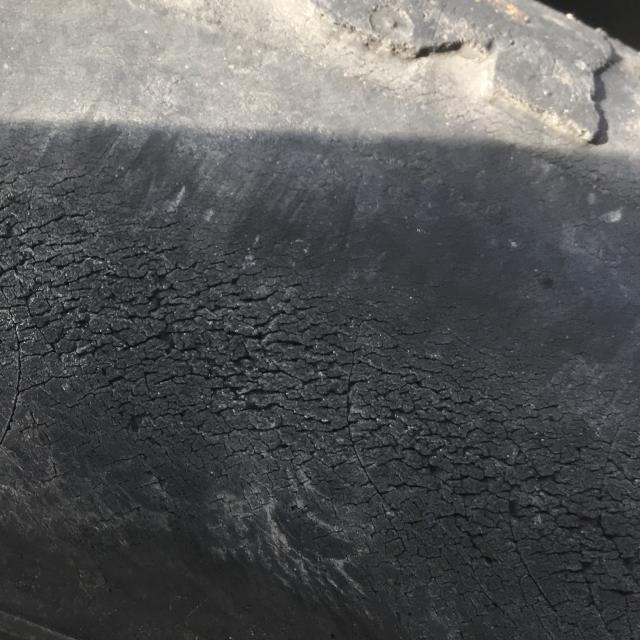Cracks: (0, 136, 640, 640)
